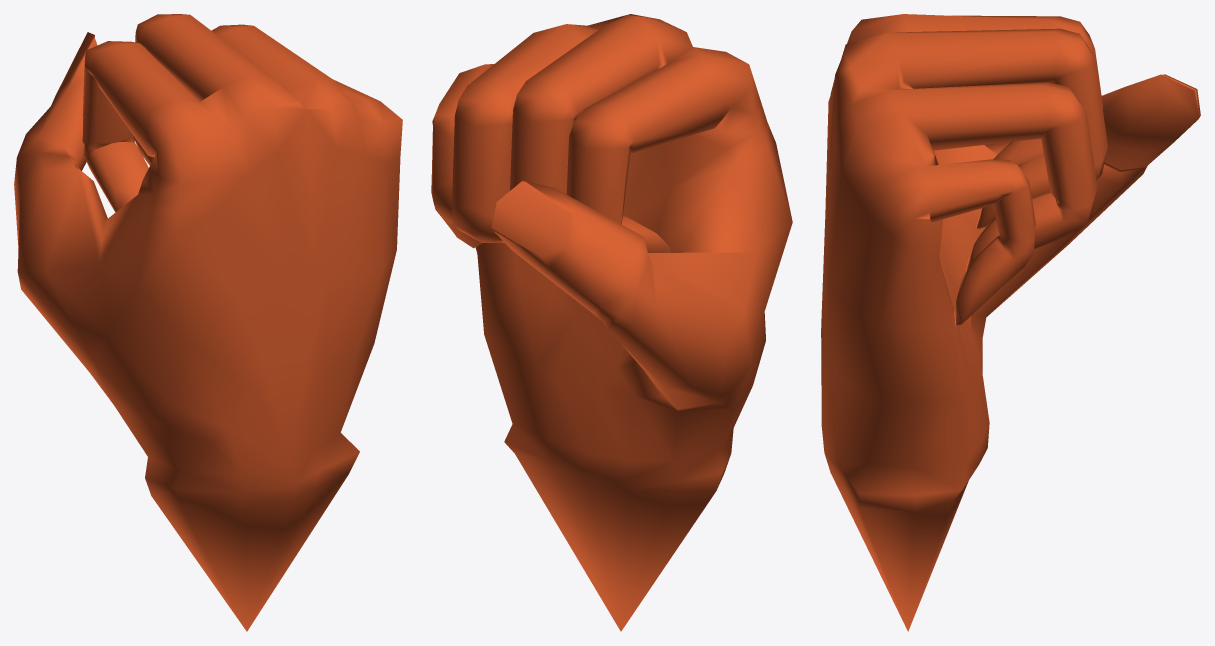
File: Hand_guu_B.obj
3 views of the same model, side by side, from view 1: azimuth 30°, elevation 25°; view 2: azimuth 150°, elevation 25°; view 3: azimuth 270°, elevation 25° (orthographic). The views are drawn at different scales.
Visible parts, largest first — view 1: Hand_guu_B_MDL; view 2: Hand_guu_B_MDL; view 3: Hand_guu_B_MDL.
Part boxes in pixels (x1=…): Hand_guu_B_MDL: x1=14, y1=14, x2=402, y2=631; Hand_guu_B_MDL: x1=431, y1=14, x2=792, y2=631; Hand_guu_B_MDL: x1=821, y1=14, x2=1200, y2=631.
Bounding box in the file's own units: 7.26 × 12.4 × 7.16.
Materials: 1 (1 with a texture image).
